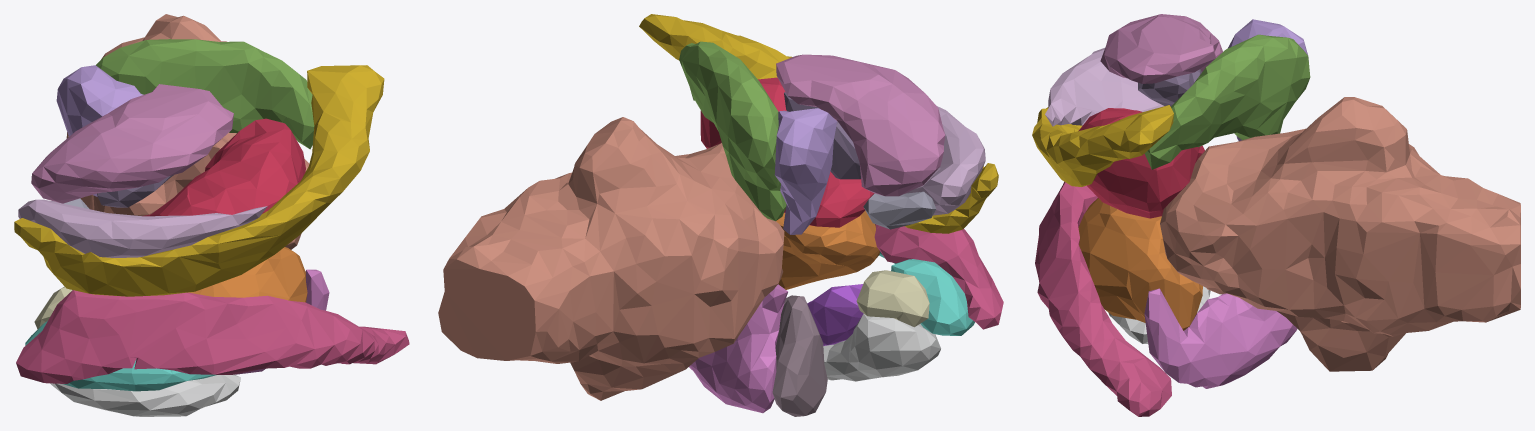
Rendered from SubCortical_01.gltf.
The picture shows the model from 3 angles, left to right: view 1: azimuth 30°, elevation 25°; view 2: azimuth 150°, elevation 25°; view 3: azimuth 270°, elevation 25°; orthographic projection. The views are drawn at different scales.
Parts seen in each view (by area): view 1: Left_Lateral_Ventricle_3, Right_Lateral_Ventricle_15, Right_Putamen_18, Right_Hippocampus_20, Right_Thalamus_16, Right_Caudate_17, Left_Putamen_7, Brain-Stem_9, Right_Amygdala_21, Left_Thalamus_4, Left_Caudate_5, Right_Pallidum_19 (+2 smaller); view 2: Brain-Stem_9, Right_Putamen_18, Right_Hippocampus_20, Left_Hippocampus_10, Right_Amygdala_21, Right_Lateral_Ventricle_15, Left_Putamen_7, Left_Lateral_Ventricle_3, Left_Thalamus_4, Left_Amygdala_11, Right_Caudate_17, Right_Thalamus_16 (+5 smaller); view 3: Brain-Stem_9, Left_Lateral_Ventricle_3, Right_Hippocampus_20, Left_Hippocampus_10, Left_Thalamus_4, Right_Lateral_Ventricle_15, Right_Putamen_18, Right_Thalamus_16, Right_Caudate_17, Right_Pallidum_19, Right_Amygdala_21, Left_Putamen_7.
Boxes of the visible parts, box(x1,y1,x2,y2) form: Left_Lateral_Ventricle_3: box(16, 290, 409, 383); Right_Lateral_Ventricle_15: box(14, 65, 384, 296); Right_Putamen_18: box(31, 84, 233, 203); Right_Hippocampus_20: box(96, 39, 314, 149); Right_Thalamus_16: box(142, 118, 305, 216); Right_Caudate_17: box(18, 199, 267, 257); Left_Putamen_7: box(50, 374, 240, 416); Brain-Stem_9: box(66, 14, 309, 249); Right_Amygdala_21: box(56, 65, 143, 196); Left_Thalamus_4: box(188, 247, 307, 302); Left_Caudate_5: box(25, 321, 216, 391); Right_Pallidum_19: box(97, 175, 173, 207); Brain-Stem_9: box(438, 117, 784, 400); Right_Putamen_18: box(776, 54, 945, 196); Right_Hippocampus_20: box(679, 41, 786, 221); Left_Hippocampus_10: box(689, 284, 787, 413); Right_Amygdala_21: box(774, 108, 836, 234); Right_Lateral_Ventricle_15: box(639, 14, 998, 233); Left_Putamen_7: box(823, 313, 940, 381); Left_Lateral_Ventricle_3: box(874, 224, 1003, 329); Left_Thalamus_4: box(776, 210, 879, 289); Left_Amygdala_11: box(772, 295, 827, 416); Right_Caudate_17: box(905, 106, 985, 215); Right_Thalamus_16: box(700, 77, 874, 227); Brain-Stem_9: box(1160, 97, 1520, 371); Left_Lateral_Ventricle_3: box(1035, 181, 1171, 416); Right_Hippocampus_20: box(1144, 34, 1310, 169); Left_Hippocampus_10: box(1144, 288, 1297, 388); Left_Thalamus_4: box(1078, 198, 1202, 330); Right_Lateral_Ventricle_15: box(1032, 105, 1173, 186); Right_Putamen_18: box(1100, 14, 1222, 83); Right_Thalamus_16: box(1078, 108, 1204, 218); Right_Caudate_17: box(1045, 48, 1164, 126); Right_Pallidum_19: box(1138, 69, 1201, 106); Right_Amygdala_21: box(1227, 19, 1308, 140); Left_Putamen_7: box(1108, 286, 1210, 343).
Size of the model in its own units: 8.74 by 7.35 by 10.
